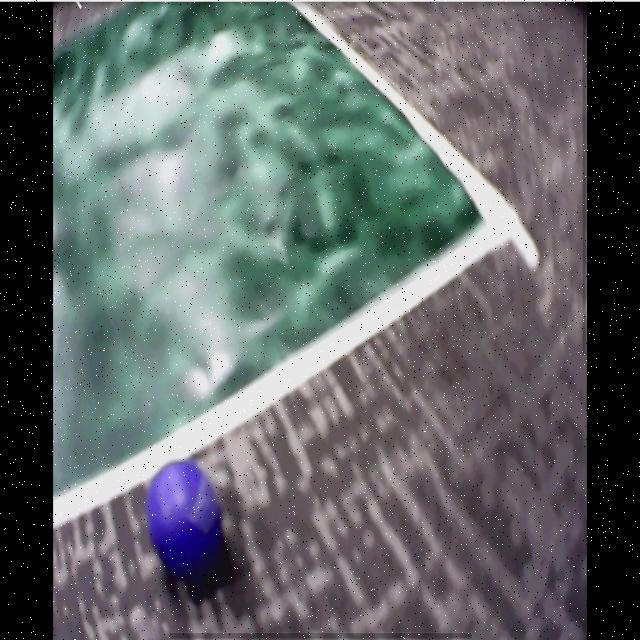ball: (147, 461, 224, 576)
